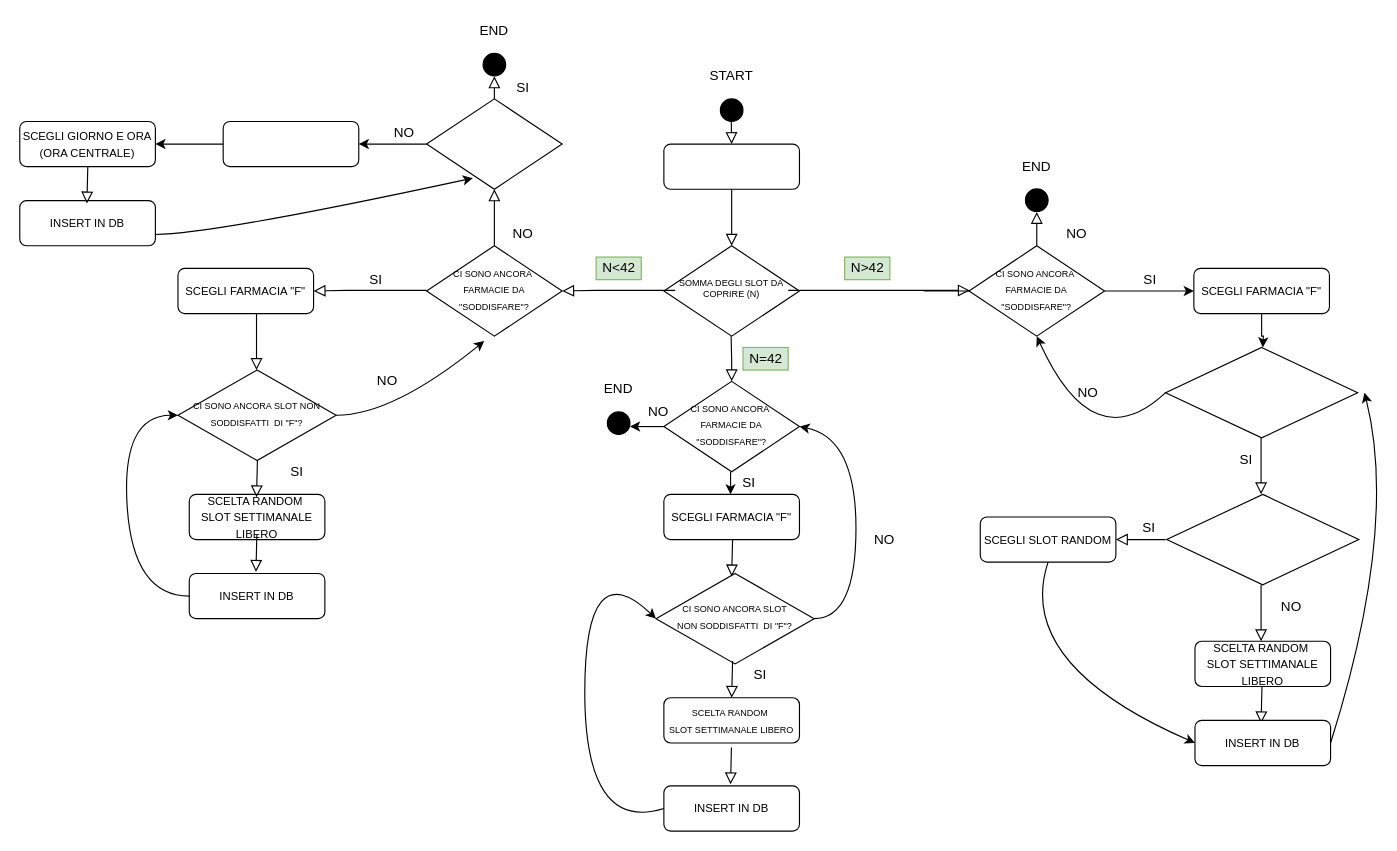
Image size: 1397x851. Some labels were removed from this diagram. The shapes that lost their labels are listed below. From the top down, each one's centre as x and y in pixels, then its label:
(x=290, y=143): SCEGLI FARMACIA CON POCHI SLOT
(x=493, y=143): LA SETTIMANA E' COPERTA?
(x=731, y=166): DELETE ITEMS DB
(x=1261, y=392): CI SONO ANCORA SLOT DI "F NON SODDISFATTI?
(x=1262, y=539): ABBIAMO GIA COPERTO LA SETTIMANA?
